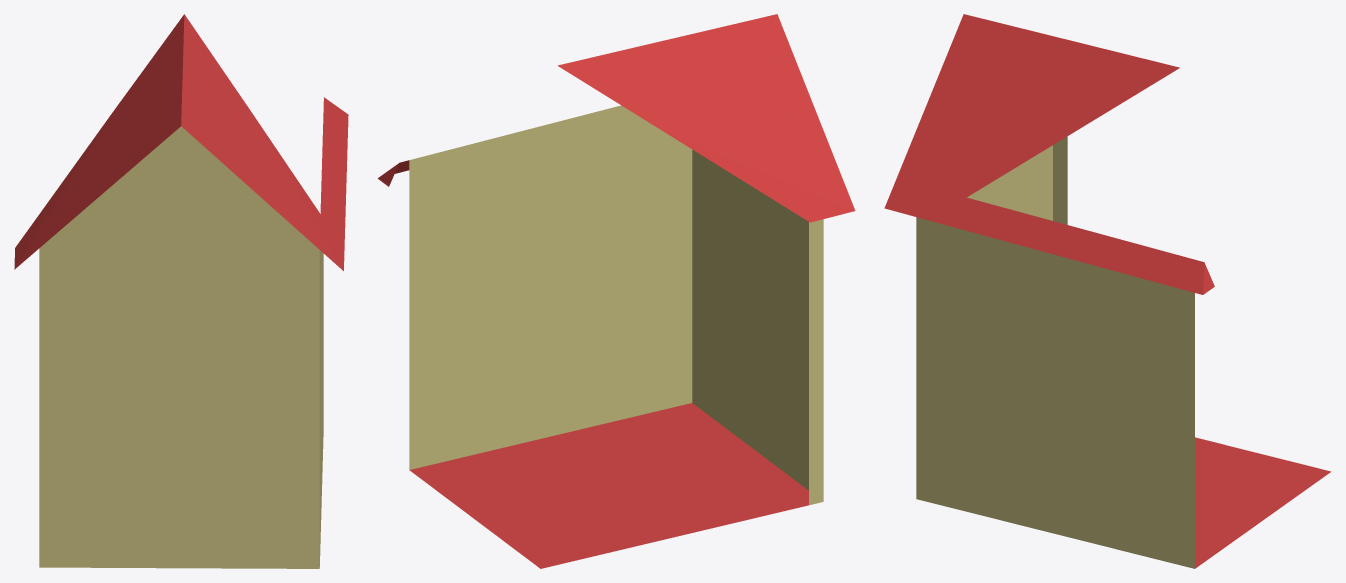
The picture shows the model from 3 angles, left to right: view 1: azimuth 30°, elevation 25°; view 2: azimuth 150°, elevation 25°; view 3: azimuth 270°, elevation 25°; orthographic projection. The views are drawn at different scales.
Bounding box in the file's own units: 9.85 × 9.59 × 10.24.
